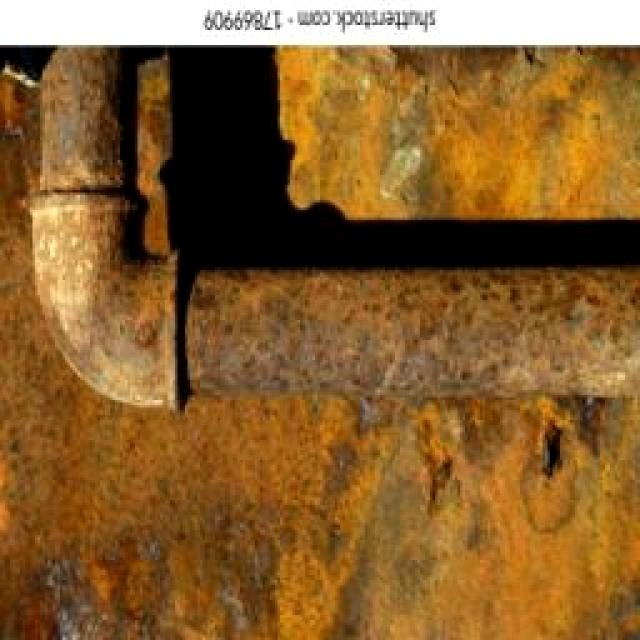rust: (38, 267, 639, 411), (22, 50, 151, 263)
